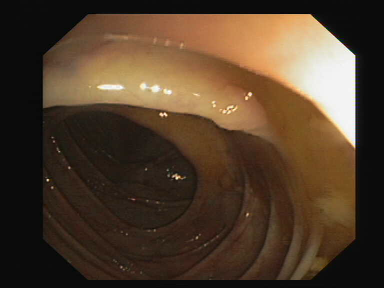polyp: (206, 60, 283, 150)
